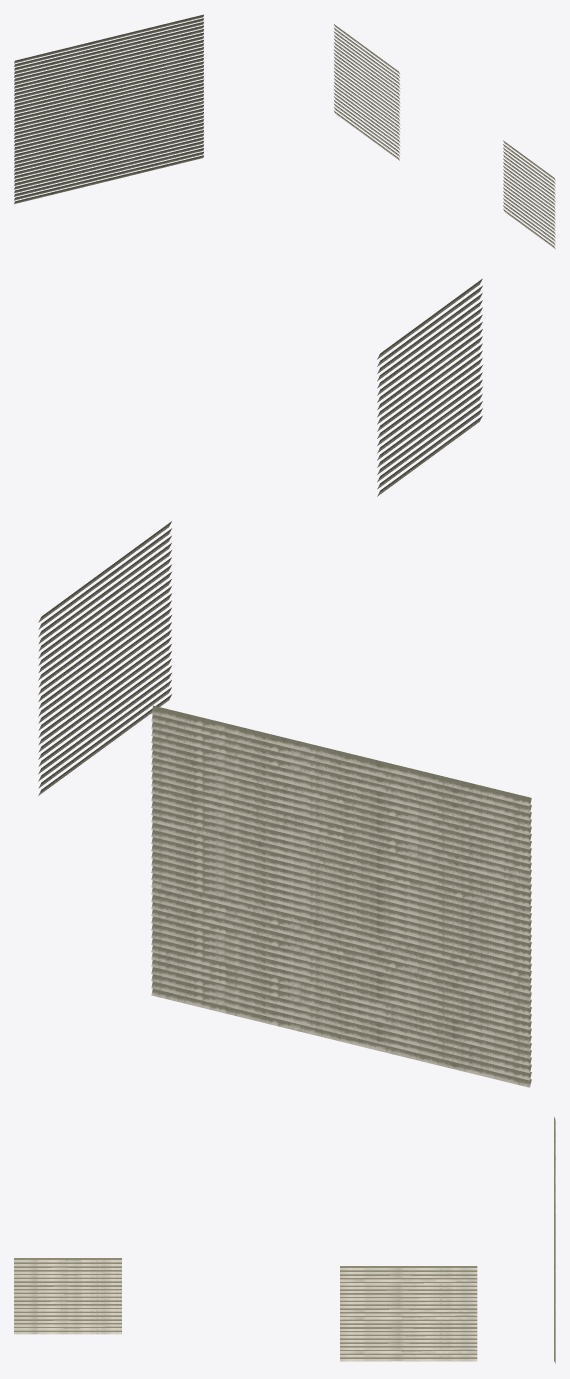
File: blinds.gltf
The picture shows the model from 3 angles, top to bottom: view 1: azimuth 30°, elevation 25°; view 2: azimuth 150°, elevation 25°; view 3: azimuth 270°, elevation 25°; orthographic projection. The views are drawn at different scales.
Parts seen in each view (by area): view 1: blinds3; view 2: blinds3; view 3: blinds3.
Part boxes in pixels (x1,y1,x2,y2): blinds3: (14,14,555,248); blinds3: (38,278,531,1087); blinds3: (14,1117,555,1363).
Bounding box in the file's own units: 9.15 × 4.53 × 14.45.
3 materials, 3 textured.
